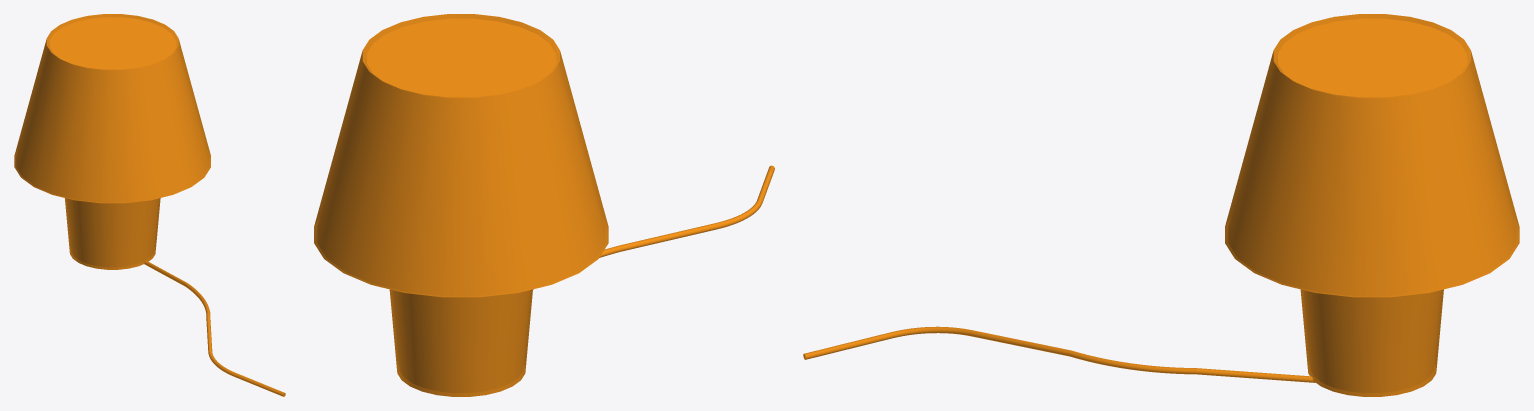
3 views of the same model, side by side, from view 1: azimuth 30°, elevation 25°; view 2: azimuth 150°, elevation 25°; view 3: azimuth 270°, elevation 25° (orthographic). The views are drawn at different scales.
Parts seen in each view (by area): view 1: mesh6_mesh6-geometry, mesh11_mesh11-geometry, mesh1_mesh1-geometry; view 2: mesh6_mesh6-geometry, mesh11_mesh11-geometry, mesh1_mesh1-geometry; view 3: mesh6_mesh6-geometry, mesh11_mesh11-geometry, mesh1_mesh1-geometry.
Boxes of the visible parts, x1,y1,x2,y2 form: mesh6_mesh6-geometry: [14, 14, 210, 203]; mesh11_mesh11-geometry: [65, 198, 160, 269]; mesh1_mesh1-geometry: [144, 261, 285, 396]; mesh6_mesh6-geometry: [314, 14, 608, 297]; mesh11_mesh11-geometry: [389, 289, 532, 396]; mesh1_mesh1-geometry: [533, 165, 774, 289]; mesh6_mesh6-geometry: [1225, 14, 1519, 297]; mesh11_mesh11-geometry: [1300, 289, 1443, 396]; mesh1_mesh1-geometry: [803, 326, 1315, 382].
Size of the model in its own units: 0.3467 by 0.4118 by 0.8428.
